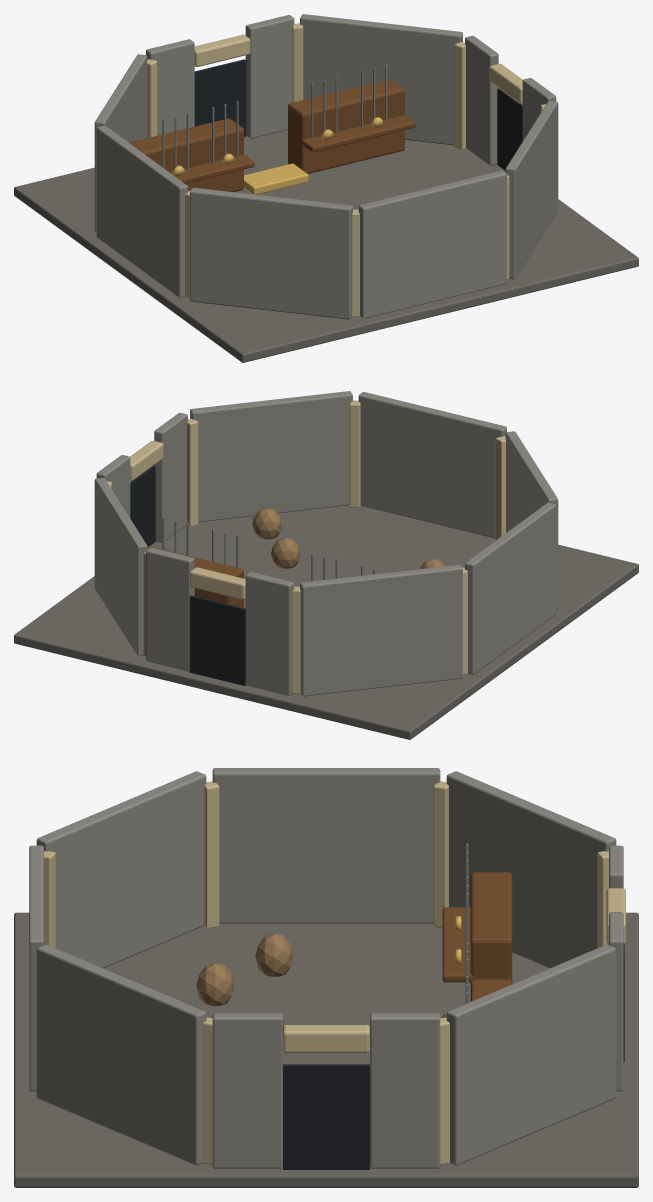
The model's file is pendelhaven_bank_4171.glb.
3 views of the same model, one above another, from view 1: azimuth 30°, elevation 25°; view 2: azimuth 150°, elevation 25°; view 3: azimuth 270°, elevation 25° (orthographic). The views are drawn at different scales.
Visible parts, largest first — view 1: Room floor, SW solid wall, S solid wall, NE solid wall, W solid wall, Teller partition.001, SE solid wall, N doorway right, Teller partition, E doorway left, N doorway left, NW solid wall (+13 smaller); view 2: Room floor, NW solid wall, SE solid wall, S solid wall, W solid wall, NE solid wall, N doorway left, N doorway right, N passage shadow, E doorway right, SW solid wall, E passage shadow (+11 smaller); view 3: Room floor, W solid wall, NE solid wall, SE solid wall, SW solid wall, NW solid wall, E doorway left, E doorway right, E passage shadow, Teller partition, S solid wall, E doorway lintel (+13 smaller).
Boxes of the visible parts, x1,y1,x2,y2 form: Room floor: [14, 130, 638, 362]; SW solid wall: [190, 187, 352, 319]; S solid wall: [358, 170, 506, 318]; NE solid wall: [300, 14, 462, 145]; W solid wall: [96, 125, 187, 297]; Teller partition.001: [288, 79, 404, 173]; SE solid wall: [505, 101, 558, 279]; N doorway right: [245, 15, 294, 138]; Teller partition: [129, 118, 243, 192]; E doorway left: [465, 35, 498, 165]; N doorway left: [146, 39, 194, 135]; NW solid wall: [94, 54, 147, 231]; Room floor: [14, 505, 638, 739]; NW solid wall: [300, 564, 462, 696]; SE solid wall: [190, 391, 352, 522]; S solid wall: [358, 392, 506, 538]; W solid wall: [465, 502, 556, 674]; NE solid wall: [94, 478, 147, 656]; N doorway left: [245, 572, 294, 695]; N doorway right: [146, 547, 194, 671]; N passage shadow: [189, 595, 245, 685]; E doorway right: [154, 412, 187, 542]; SW solid wall: [505, 431, 558, 608]; E passage shadow: [130, 465, 155, 546]; Room floor: [14, 912, 638, 1187]; W solid wall: [212, 768, 440, 923]; NE solid wall: [446, 944, 616, 1165]; SE solid wall: [36, 944, 206, 1165]; SW solid wall: [36, 771, 206, 968]; NW solid wall: [446, 771, 616, 968]; E doorway left: [370, 1013, 440, 1168]; E doorway right: [212, 1013, 282, 1168]; E passage shadow: [283, 1064, 369, 1169]; Teller partition: [470, 872, 512, 982]; S solid wall: [29, 845, 43, 1091]; E doorway lintel: [283, 1025, 369, 1052].
Bounding box in the file's own units: 18 × 5.2 × 18.
